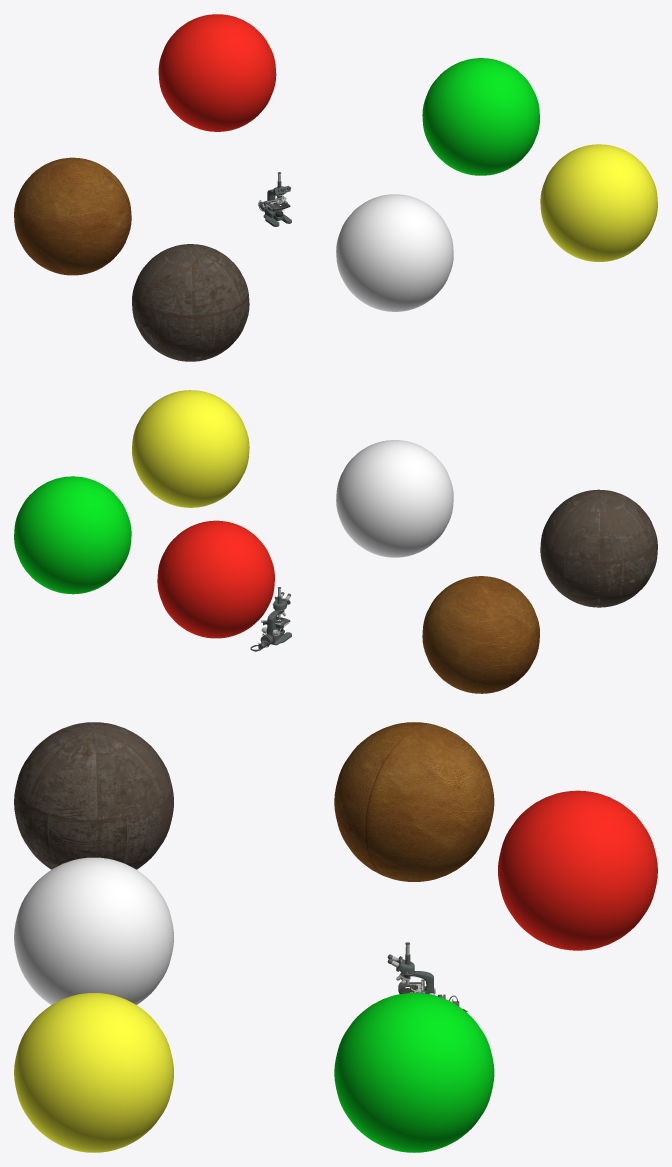
File: Microscope.glb
3 views of the same model, one above another, from view 1: azimuth 30°, elevation 25°; view 2: azimuth 150°, elevation 25°; view 3: azimuth 270°, elevation 25° (orthographic). The views are drawn at different scales.
Parts seen in each view (by area): view 1: Sphere.005, Sphere.007, Sphere, Sphere.003, Sphere.006, Sphere.004, industrial_microscope; view 2: Sphere, Sphere.003, Sphere.004, Sphere.006, Sphere.005, Sphere.007, industrial_microscope; view 3: Sphere.005, Sphere.003, Sphere.006, Sphere.007, Sphere.004, Sphere, industrial_microscope.
Boxes of the visible parts, box(x1,y1,x2,y2) form: Sphere.005: box(540, 144, 657, 261); Sphere.007: box(14, 157, 131, 275); Sphere: box(336, 194, 453, 311); Sphere.003: box(158, 14, 276, 131); Sphere.006: box(422, 58, 539, 175); Sphere.004: box(132, 244, 249, 361); industrial_microscope: box(258, 172, 291, 226); Sphere: box(336, 440, 453, 557); Sphere.003: box(157, 520, 274, 638); Sphere.004: box(540, 489, 657, 607); Sphere.006: box(14, 476, 131, 594); Sphere.005: box(132, 390, 249, 507); Sphere.007: box(422, 576, 539, 693); industrial_microscope: box(258, 587, 291, 649); Sphere.005: box(14, 993, 173, 1152); Sphere.003: box(498, 790, 657, 950); Sphere.006: box(334, 993, 494, 1152); Sphere.007: box(334, 722, 494, 881); Sphere.004: box(14, 722, 173, 869); Sphere: box(14, 857, 173, 1004); industrial_microscope: box(387, 942, 459, 1006).
Size of what is drawn, in the model's own units: 5 by 1.46 by 4.02.
Materials: 7 (3 with a texture image).
